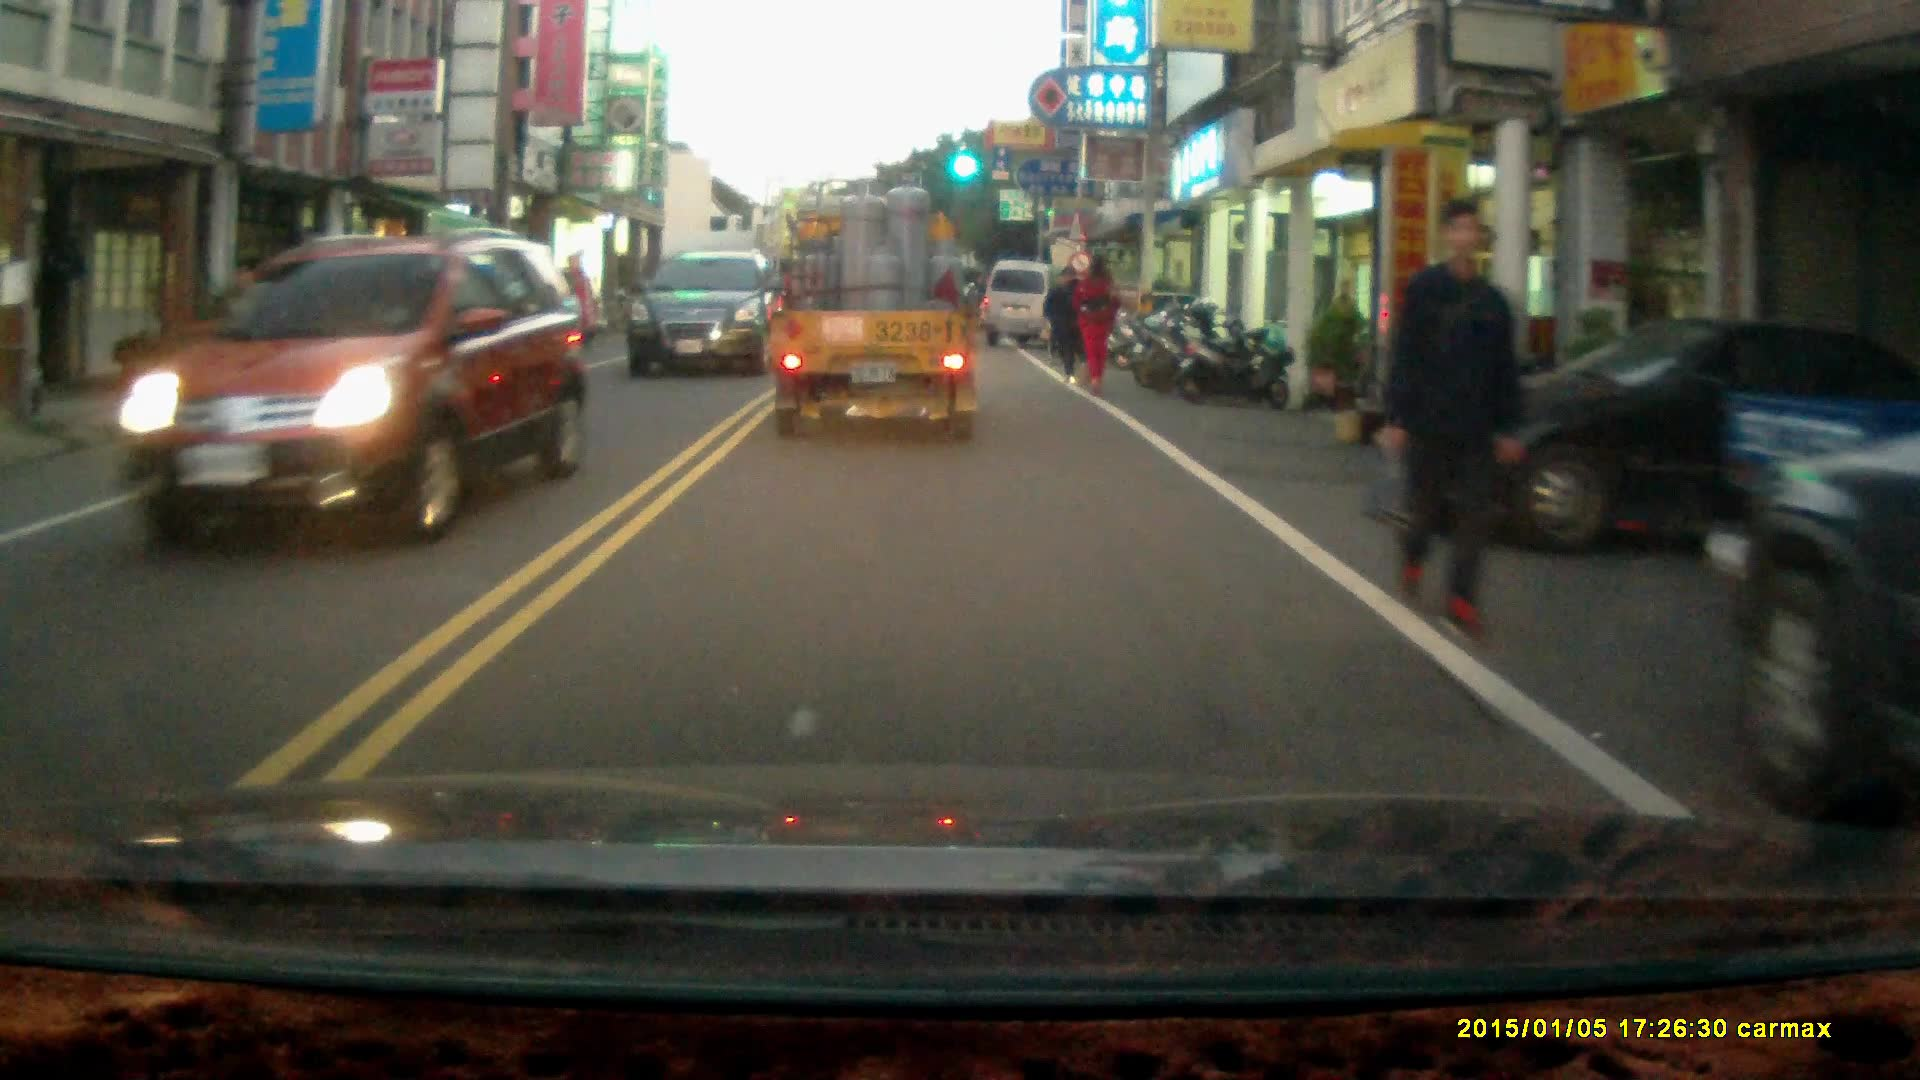pedestrian: (1376, 190, 1527, 642), (1076, 251, 1116, 391), (1052, 265, 1089, 385), (1325, 276, 1357, 362)
vehicle: (133, 230, 576, 557), (1380, 311, 1913, 569), (1722, 394, 1920, 808), (768, 195, 986, 475), (624, 251, 784, 382), (984, 260, 1066, 349)
